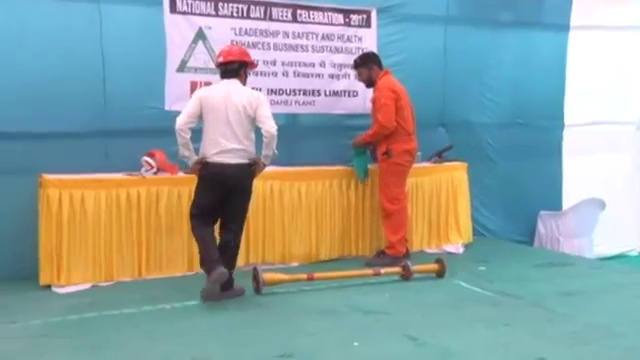helmet: (214, 43, 257, 72)
helmet_off: (351, 52, 386, 89)
helmet_on: (214, 43, 260, 84)
person: (172, 42, 278, 302), (349, 52, 418, 267)
